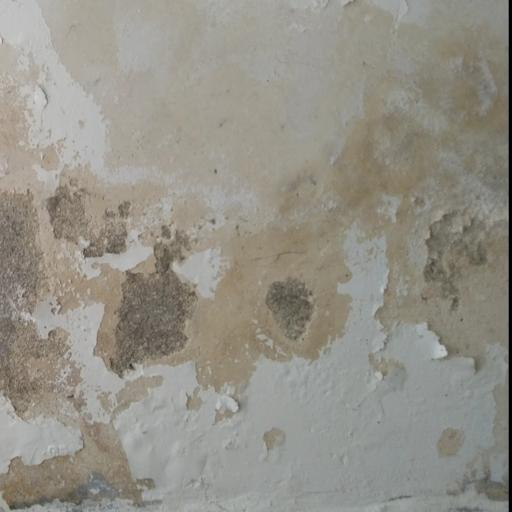peeling: (3, 12, 512, 512)
